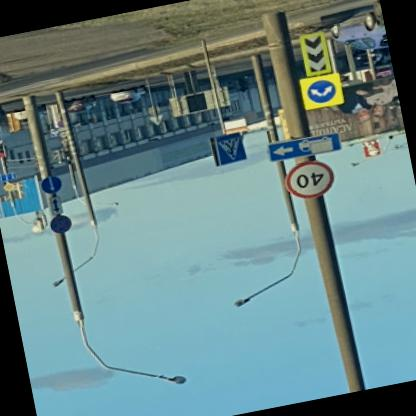crosswalk: (216, 134, 247, 164)
speedlimit: (283, 158, 338, 204)
